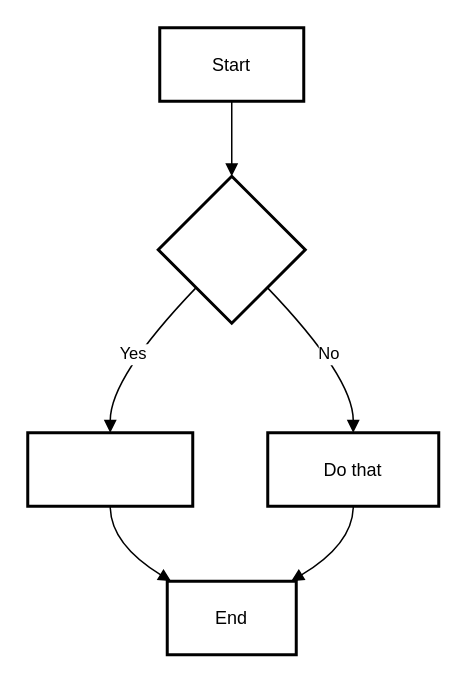
Some shapes in this 465 by 681 pixel diagram are drawn without their labels. The shapes that lost their labels are listed below. From the top down, each one's centre as x and y in pixels, then its label:
At point (231, 249): "Decide".
At point (110, 468): "Do this".
